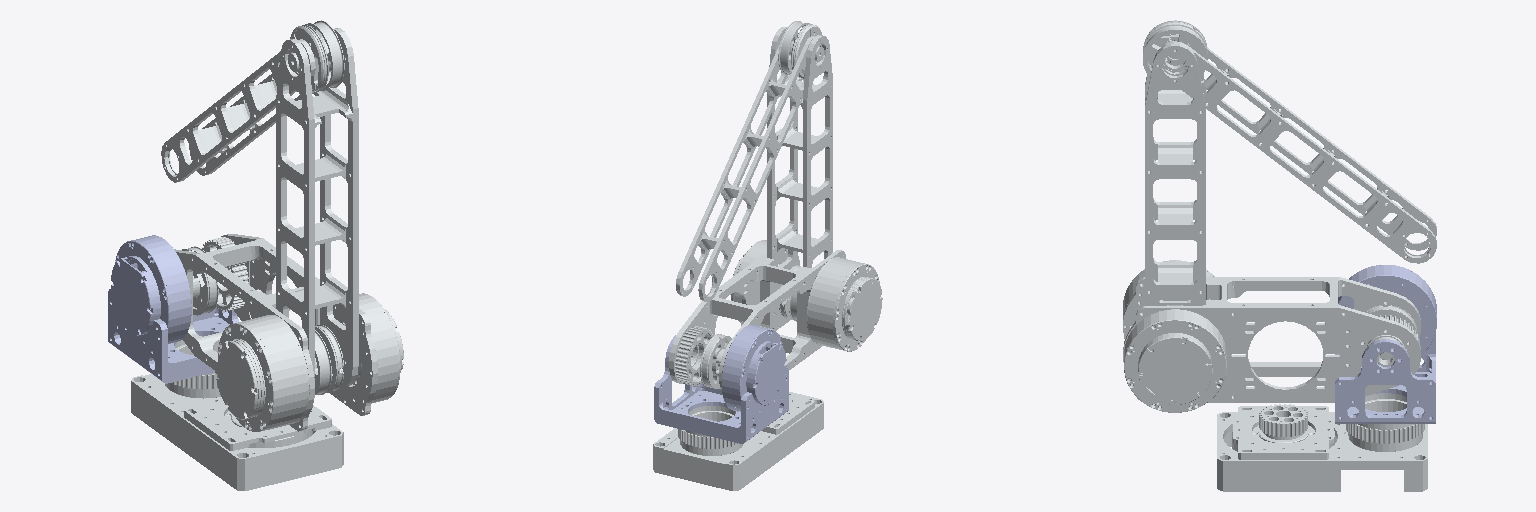
The robot description file, URDF, robot "arm5":
<robot
  name="arm5">
  <link
    name="base_link">
    <inertial>
      <origin
        xyz="-0.001245 -0.047521 -0.038252"
        rpy="0 0 0" />
      <mass
        value="0.62066" />
      <inertia
        ixx="0.00074638"
        ixy="-1.4562E-06"
        ixz="-8.1387E-06"
        iyy="9.31E-05"
        iyz="-6.9729E-05"
        izz="0.00065484" />
    </inertial>
    <visual>
      <origin
        xyz="0 0 0"
        rpy="0 0 0" />
      <geometry>
        <mesh
          filename="../meshes/base_link.STL" />
      </geometry>
      <material
        name="">
        <color
          rgba="0.89804 0.91765 0.92941 1" />
      </material>
    </visual>
    <collision>
      <origin
        xyz="0 0 0"
        rpy="0 0 0" />
      <geometry>
        <mesh
          filename="../meshes/base_link.STL" />
      </geometry>
    </collision>
  </link>
  <link
    name="link1">
    <inertial>
      <origin
        xyz="-0.011094 -3.8338E-07 0.013936"
        rpy="0 0 0" />
      <mass
        value="0.26474" />
      <inertia
        ixx="0"
        ixy="0"
        ixz="0"
        iyy="0"
        iyz="0"
        izz="0" />
    </inertial>
    <visual>
      <origin
        xyz="0 0 0"
        rpy="0 0 0" />
      <geometry>
        <mesh
          filename="../meshes/link1.STL" />
      </geometry>
      <material
        name="">
        <color
          rgba="0.79216 0.81961 0.93333 1" />
      </material>
    </visual>
    <collision>
      <origin
        xyz="0 0 0"
        rpy="0 0 0" />
      <geometry>
        <mesh
          filename="../meshes/link1.STL" />
      </geometry>
    </collision>
  </link>
  <joint
    name="joint1"
    type="revolute">
    <origin
      xyz="0 0 0"
      rpy="1.0456E-32 0 0" />
    <parent
      link="base_link" />
    <child
      link="link1" />
    <axis
      xyz="0 0 -1" />
    <limit
      lower="-3.14"
      upper="3.14"
      effort="100"
      velocity="1" />
  </joint>
  <link
    name="link2">
    <inertial>
      <origin
        xyz="0.092531 -4.4044E-05 -0.0038406"
        rpy="0 0 0" />
      <mass
        value="0.80653" />
      <inertia
        ixx="7.9474E-05"
        ixy="1.6363E-06"
        ixz="1.2161E-05"
        iyy="0.0018634"
        iyz="-9.0107E-08"
        izz="0.001784" />
    </inertial>
    <visual>
      <origin
        xyz="0 0 0"
        rpy="0 0 0" />
      <geometry>
        <mesh
          filename="../meshes/link2.STL" />
      </geometry>
      <material
        name="">
        <color
          rgba="0.89804 0.91765 0.92941 1" />
      </material>
    </visual>
    <collision>
      <origin
        xyz="0 0 0"
        rpy="0 0 0" />
      <geometry>
        <mesh
          filename="../meshes/link2.STL" />
      </geometry>
    </collision>
  </link>
  <joint
    name="joint2"
    type="revolute">
    <origin
      xyz="0.0005 0 0.0635"
      rpy="1.5708 4.3773E-16 -1.5708" />
    <parent
      link="link1" />
    <child
      link="link2" />
    <axis
      xyz="0 0 -1" />
    <limit
      lower="-3.14"
      upper="3.14"
      effort="100"
      velocity="1" />
  </joint>
  <link
    name="link3">
    <inertial>
      <origin
        xyz="0.12101 1.8399E-06 -0.0018272"
        rpy="0 0 0" />
      <mass
        value="0.48001" />
      <inertia
        ixx="4.6544E-06"
        ixy="1.0218E-07"
        ixz="1.2381E-05"
        iyy="0.0012605"
        iyz="5.0502E-09"
        izz="0.0012558" />
    </inertial>
    <visual>
      <origin
        xyz="0 0 0"
        rpy="0 0 0" />
      <geometry>
        <mesh
          filename="../meshes/link3.STL" />
      </geometry>
      <material
        name="">
        <color
          rgba="0.89804 0.91765 0.92941 1" />
      </material>
    </visual>
    <collision>
      <origin
        xyz="0 0 0"
        rpy="0 0 0" />
      <geometry>
        <mesh
          filename="../meshes/link3.STL" />
      </geometry>
    </collision>
  </link>
  <joint
    name="joint3"
    type="revolute">
    <origin
      xyz="0.2 0 0"
      rpy="-9.2815E-16 -2.3709E-16 1.5708" />
    <parent
      link="link2" />
    <child
      link="link3" />
    <axis
      xyz="0 0 -1" />
    <limit
      lower="-3.14"
      upper="3.14"
      effort="100"
      velocity="1" />
  </joint>
  <link
    name="link4">
    <inertial>
      <origin
        xyz="0.10488 -4.6082E-06 0.0012403"
        rpy="0 0 0" />
      <mass
        value="0.28561" />
      <inertia
        ixx="5.6718E-06"
        ixy="-1.3945E-07"
        ixz="3.0883E-05"
        iyy="0.0013046"
        iyz="1.1483E-08"
        izz="0.0012989" />
    </inertial>
    <visual>
      <origin
        xyz="0 0 0"
        rpy="0 0 0" />
      <geometry>
        <mesh
          filename="../meshes/link4.STL" />
      </geometry>
      <material
        name="">
        <color
          rgba="0.89804 0.91765 0.92941 1" />
      </material>
    </visual>
    <collision>
      <origin
        xyz="0 0 0"
        rpy="0 0 0" />
      <geometry>
        <mesh
          filename="../meshes/link4.STL" />
      </geometry>
    </collision>
  </link>
  <joint
    name="joint4"
    type="revolute">
    <origin
      xyz="0.3 0 -0.00075"
      rpy="-5.7235E-16 -1.6899E-15 2.2689" />
    <parent
      link="link3" />
    <child
      link="link4" />
    <axis
      xyz="0 0 -1" />
    <limit
      lower="-3.14"
      upper="3.14"
      effort="100"
      velocity="1" />
  </joint>
  <link
    name="link5">
    <inertial>
      <origin
        xyz="0.0069931 -0.020663 -0.035026"
        rpy="0 0 0" />
      <mass
        value="0.33438" />
      <inertia
        ixx="0.00090717"
        ixy="8.7948E-05"
        ixz="-6.0168E-05"
        iyy="0.0006753"
        iyz="0.00032047"
        izz="0.00048889" />
    </inertial>
    <visual>
      <origin
        xyz="0 0 0"
        rpy="0 0 0" />
      <geometry>
        <mesh
          filename="../meshes/link5.STL" />
      </geometry>
      <material
        name="">
        <color
          rgba="1 1 1 1" />
      </material>
    </visual>
    <collision>
      <origin
        xyz="0 0 0"
        rpy="0 0 0" />
      <geometry>
        <mesh
          filename="../meshes/link5.STL" />
      </geometry>
    </collision>
  </link>
  <joint
    name="joint5"
    type="revolute">
    <origin
      xyz="0.3 0 0"
      rpy="-3.4682E-17 9.8608E-32 -1.2014E-30" />
    <parent
      link="link4" />
    <child
      link="link5" />
    <axis
      xyz="0 0 -1" />
    <limit
      lower="-3.14"
      upper="3.14"
      effort="100"
      velocity="1" />
  </joint>
</robot>

--- What the picture shows (computed from the rendered views, not written in the file) ---
Views: 3 orthographic renders of the robot side by side, from view 1: azimuth 30°, elevation 25°; view 2: azimuth 150°, elevation 25°; view 3: azimuth 270°, elevation 25°.
Robot: arm5 — 6 links, 5 joints (5 revolute); root link base_link; default pose: every joint at zero.
Visible links, largest first — view 1: link2, link3, base_link, link1, link4; view 2: link2, link4, link1, link3, base_link; view 3: link2, base_link, link4, link3, link1.
Boxes of the visible links, x1=… form: link2: x1=174, y1=234, x2=403, y2=431; link3: x1=276, y1=28, x2=358, y2=394; base_link: x1=131, y1=336, x2=343, y2=490; link1: x1=108, y1=235, x2=238, y2=383; link4: x1=161, y1=20, x2=344, y2=182; link2: x1=669, y1=240, x2=882, y2=389; link4: x1=676, y1=21, x2=823, y2=301; link1: x1=654, y1=325, x2=788, y2=443; link3: x1=767, y1=27, x2=832, y2=321; base_link: x1=653, y1=392, x2=823, y2=490; link2: x1=1123, y1=260, x2=1420, y2=412; base_link: x1=1217, y1=393, x2=1427, y2=491; link4: x1=1143, y1=20, x2=1436, y2=263; link3: x1=1145, y1=44, x2=1205, y2=305; link1: x1=1335, y1=265, x2=1436, y2=423.
Size in the robot's own frame: 0.1545 by 0.299 by 0.465 metres.
5 mesh visuals loaded from 6 distinct referenced files (5 binary STL); not drawn: 1 (reference not matched to a file when rendering).